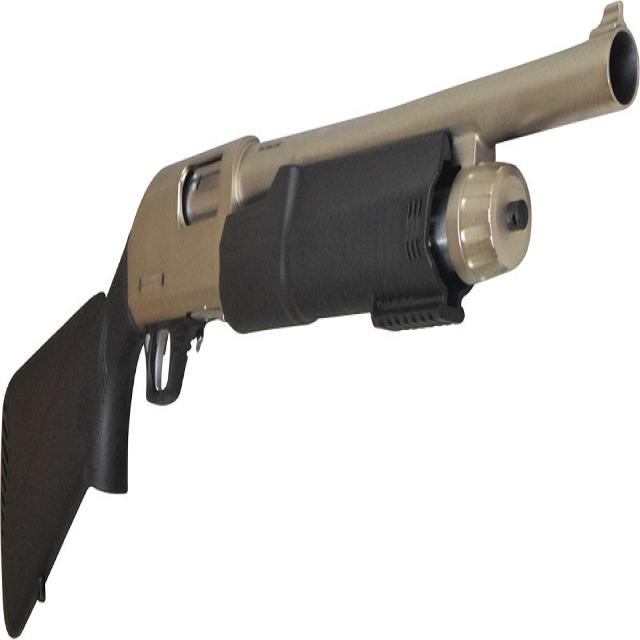ShotGun: (0, 1, 640, 640)
